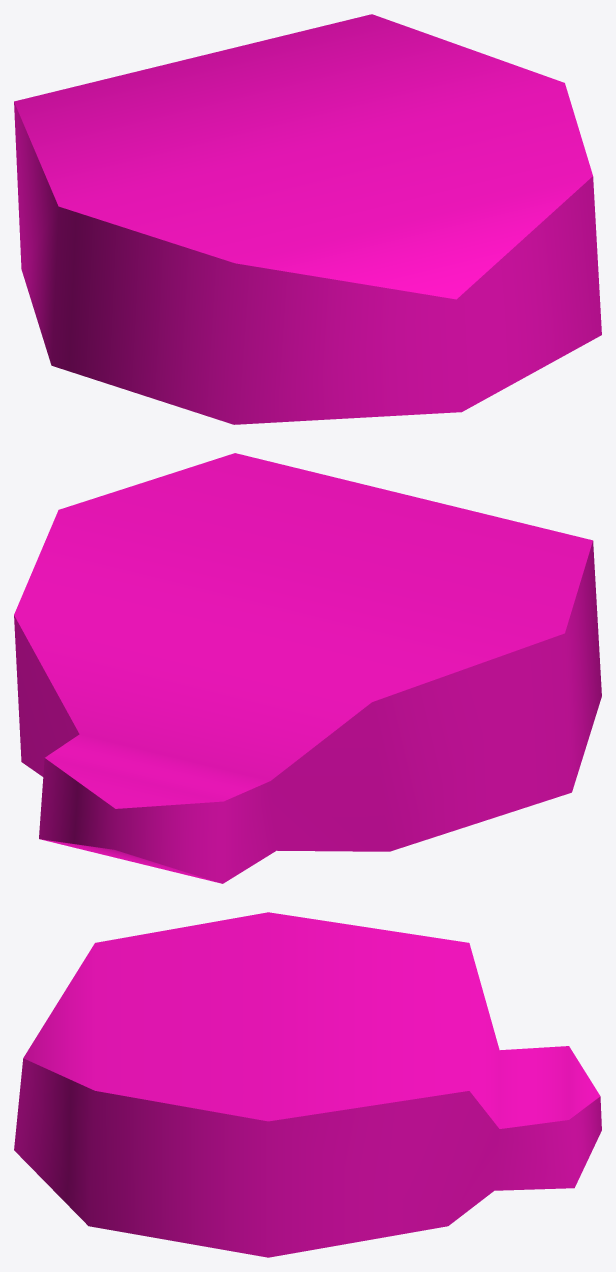
The model's file is study_pillow_round_2_meshCollider.fbx.
The picture shows the model from 3 angles, top to bottom: view 1: azimuth 30°, elevation 25°; view 2: azimuth 150°, elevation 25°; view 3: azimuth 270°, elevation 25°; orthographic projection. The views are drawn at different scales.
Visible parts, largest first — view 1: study_pillow_round_2_meshCollider; view 2: study_pillow_round_2_meshCollider; view 3: study_pillow_round_2_meshCollider.
Boxes of the visible parts, x1=… form: study_pillow_round_2_meshCollider: x1=14, y1=14, x2=601, y2=424; study_pillow_round_2_meshCollider: x1=14, y1=453, x2=601, y2=883; study_pillow_round_2_meshCollider: x1=14, y1=912, x2=601, y2=1257.
Size of the model in its own units: 46.11 by 13.33 by 53.28.
